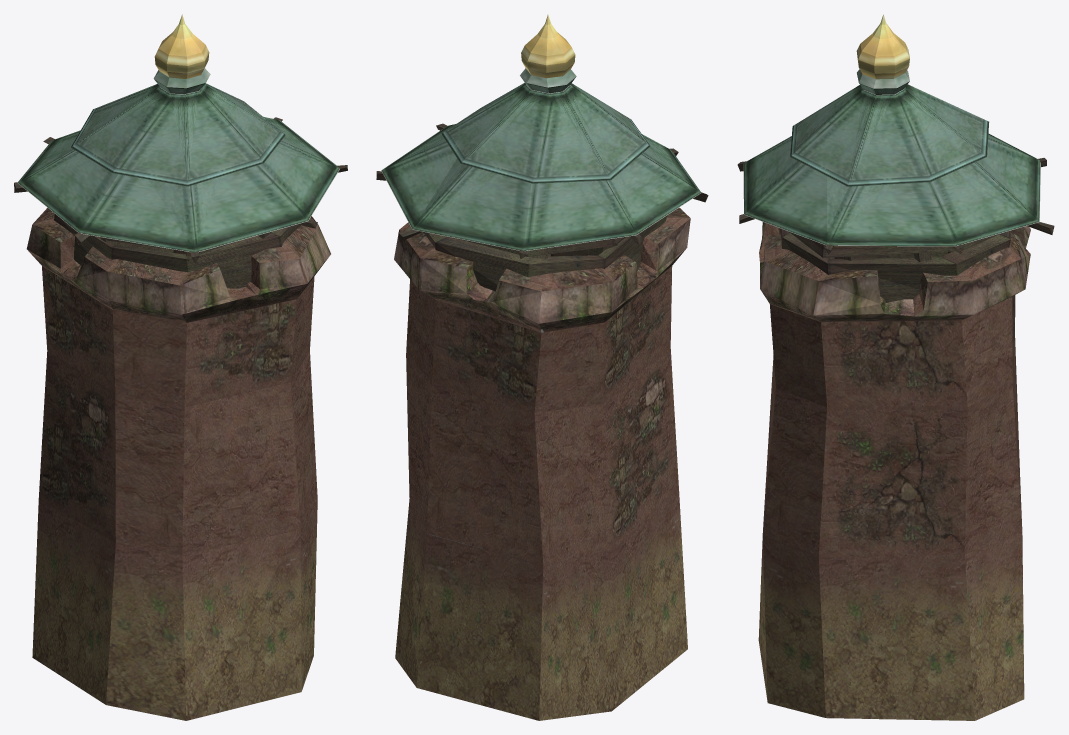
File: C1SMTHH.obj
3 views of the same model, side by side, from view 1: azimuth 30°, elevation 25°; view 2: azimuth 150°, elevation 25°; view 3: azimuth 270°, elevation 25° (orthographic). The views are drawn at different scales.
Parts seen in each view (by area): view 1: Node 0; view 2: Node 0; view 3: Node 0.
Part boxes in pixels (x1=…): Node 0: x1=14, y1=14, x2=347, y2=720; Node 0: x1=376, y1=14, x2=708, y2=720; Node 0: x1=737, y1=14, x2=1054, y2=720.
Bounding box in the file's own units: 10.36 × 23.61 × 10.29.
4 materials, 4 textured.
